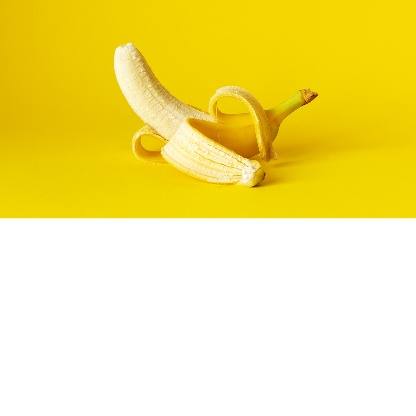chuoi: (94, 32, 328, 198)
